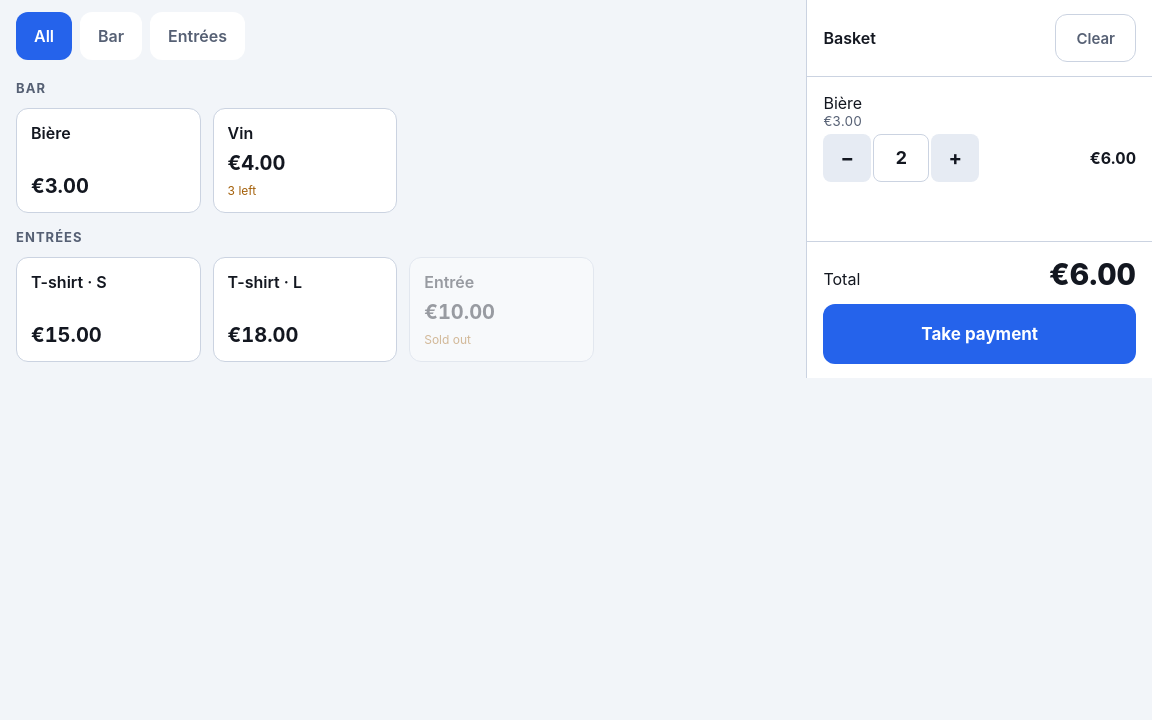
Test: how many › stops at what the quota allows
This screenshot has width=1152, height=720.
Step 1. Click the button "2" → (901, 158), box [873,134,929,182]
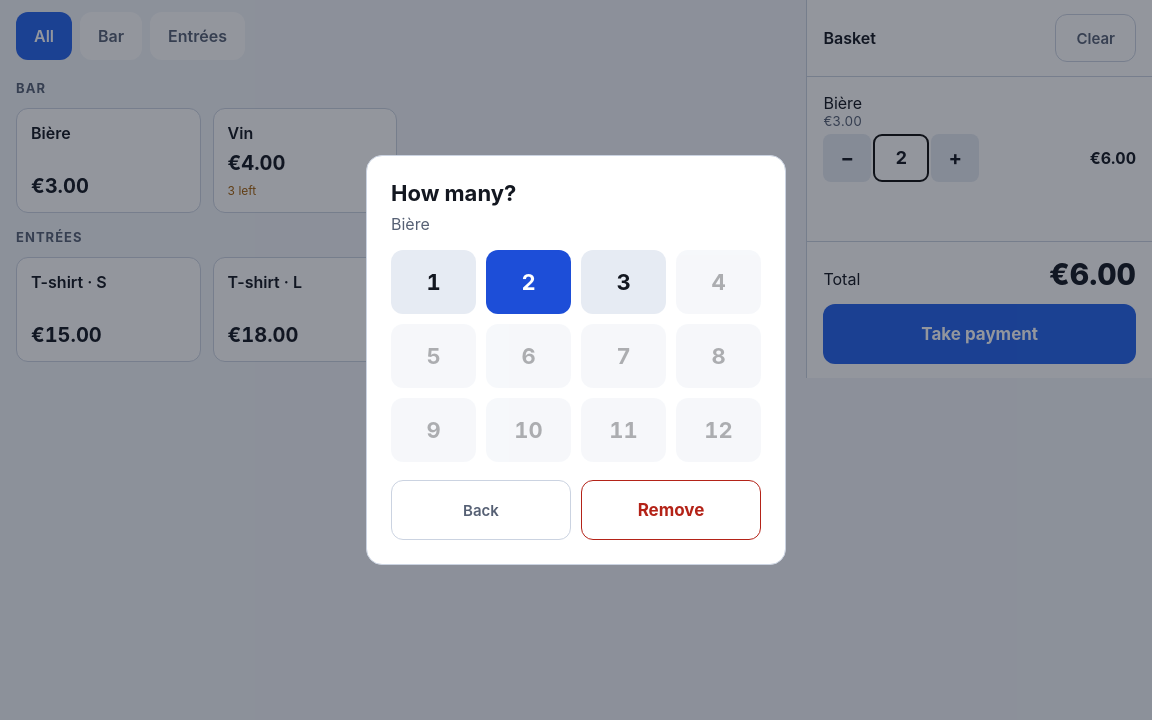
Check: the button "3" is enabled, box [581,250,666,314]
Check: the button "4" is disabled, box [676,250,761,314]
